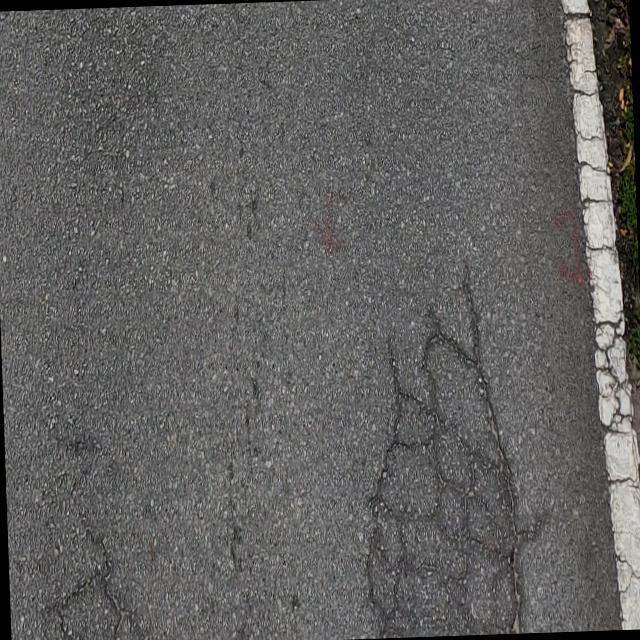Retak-Buaya: (359, 272, 526, 638)
